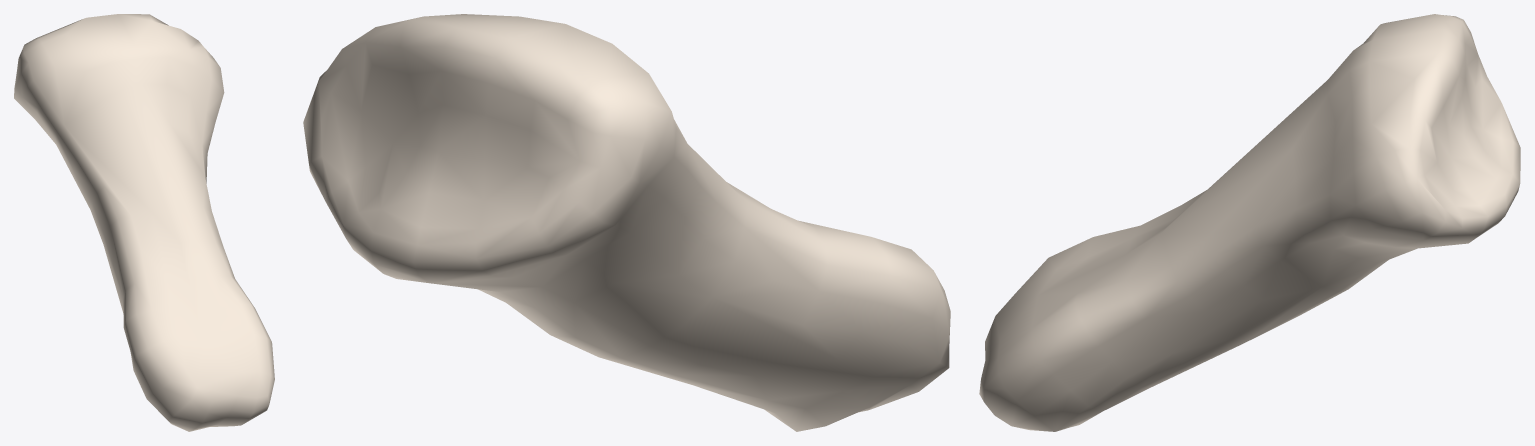
The model's file is right_digit_2_distal.glb.
3 views of the same model, side by side, from view 1: azimuth 30°, elevation 25°; view 2: azimuth 150°, elevation 25°; view 3: azimuth 270°, elevation 25° (orthographic). The views are drawn at different scales.
Visible parts, largest first — view 1: Distal phalanx of 2d finger.r; view 2: Distal phalanx of 2d finger.r; view 3: Distal phalanx of 2d finger.r.
Boxes of the visible parts, box(x1,y1,x2,y2) form: Distal phalanx of 2d finger.r: box(14, 14, 274, 431); Distal phalanx of 2d finger.r: box(303, 14, 950, 431); Distal phalanx of 2d finger.r: box(979, 14, 1520, 431).
Bounding box in the file's own units: 0.00985 × 0.0136 × 0.0165.
